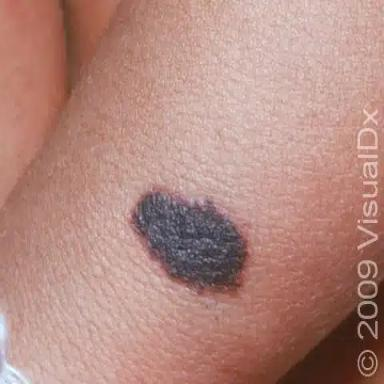nevus: (128, 185, 251, 294)
